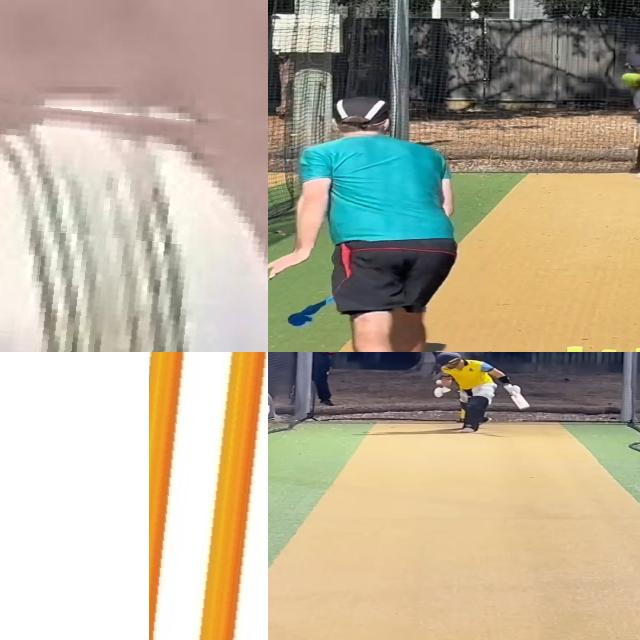Cricket ball: (0, 87, 268, 352), (436, 380, 443, 386)
Stumps: (149, 352, 268, 640)
